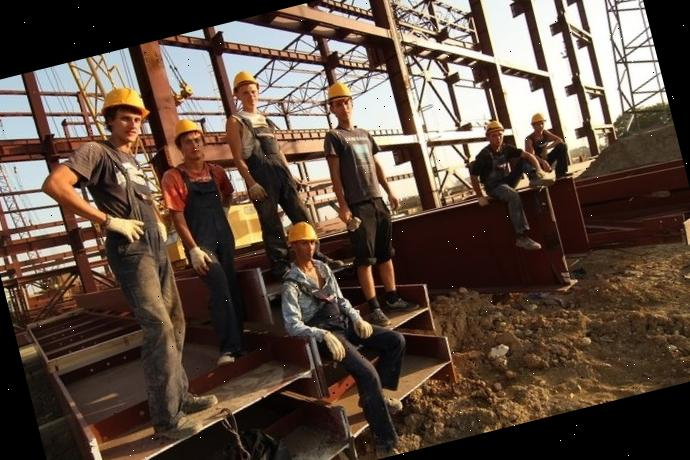helmet: (94, 78, 150, 125), (284, 215, 324, 248), (320, 78, 354, 110), (172, 113, 208, 138), (226, 64, 259, 89), (482, 115, 507, 139), (527, 108, 549, 128)
no_wear: (70, 142, 166, 270), (165, 159, 234, 258), (275, 257, 347, 330), (328, 124, 388, 208), (228, 104, 288, 184), (482, 141, 526, 191), (525, 130, 553, 162)
